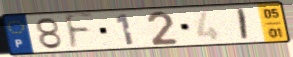1: (114, 13, 137, 46)
2: (145, 10, 181, 47)
4: (194, 9, 223, 43)
8: (34, 17, 64, 50)
F: (63, 11, 96, 52)
I: (237, 7, 251, 42)
